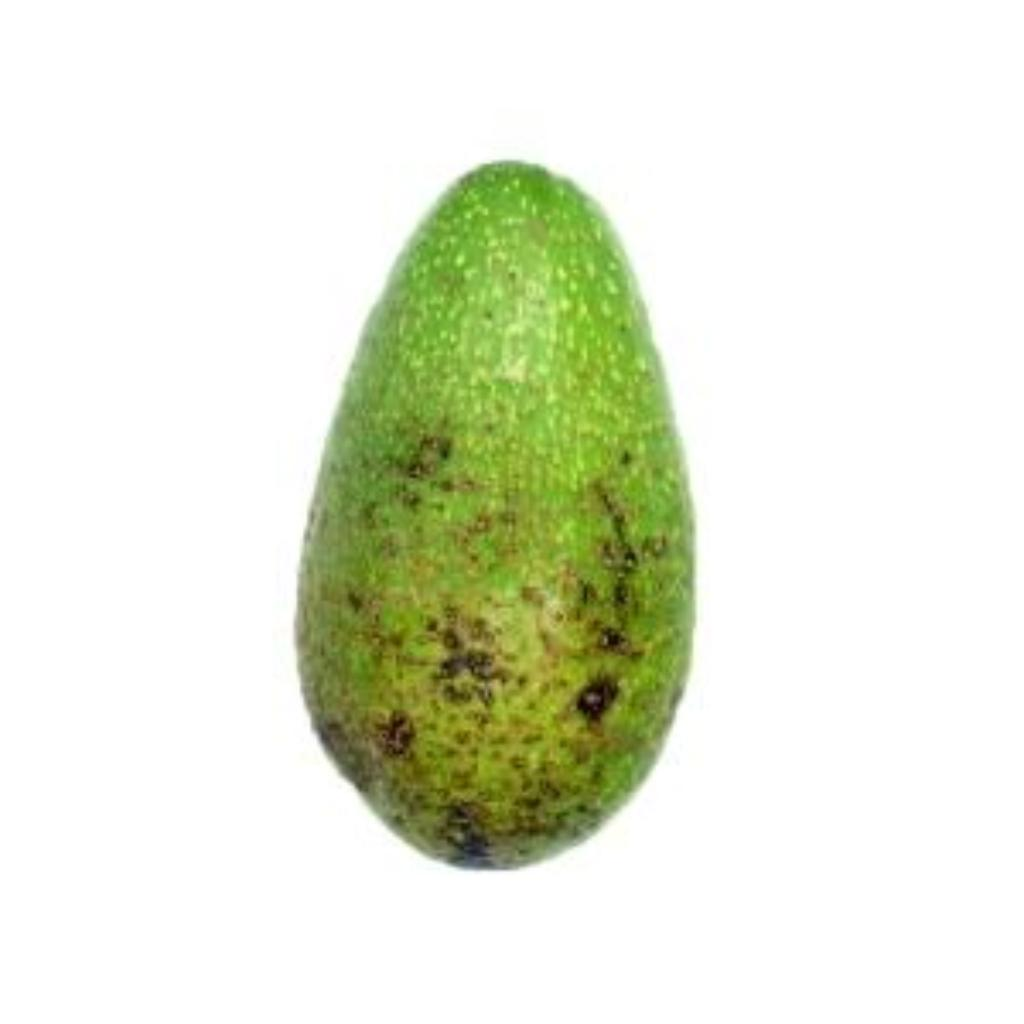cercospora: (250, 121, 731, 885)
